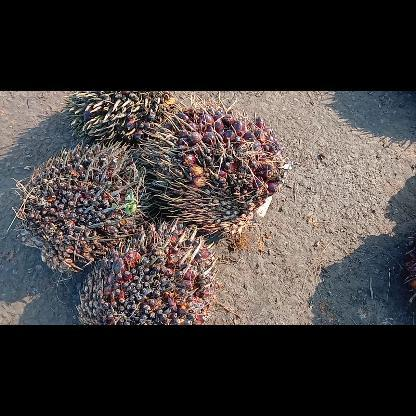TBS abnormal: (13, 140, 153, 272), (74, 214, 218, 324), (57, 91, 180, 149)
TBS masak: (138, 102, 292, 242)
